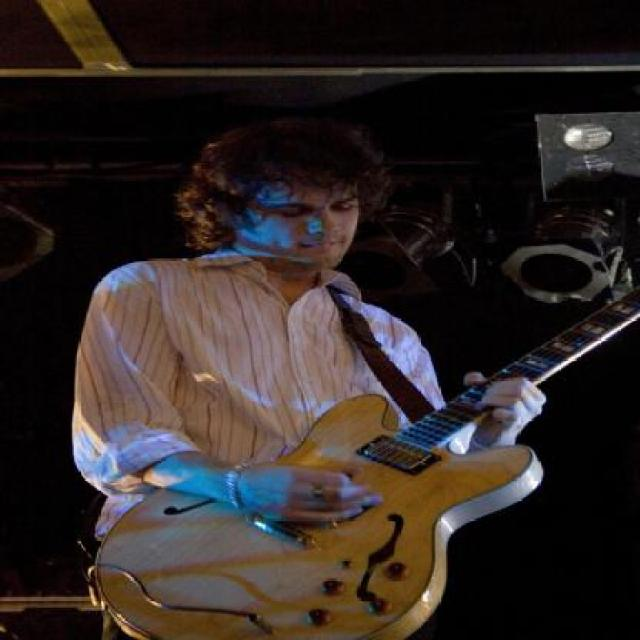obstacle: (99, 114, 584, 632)
